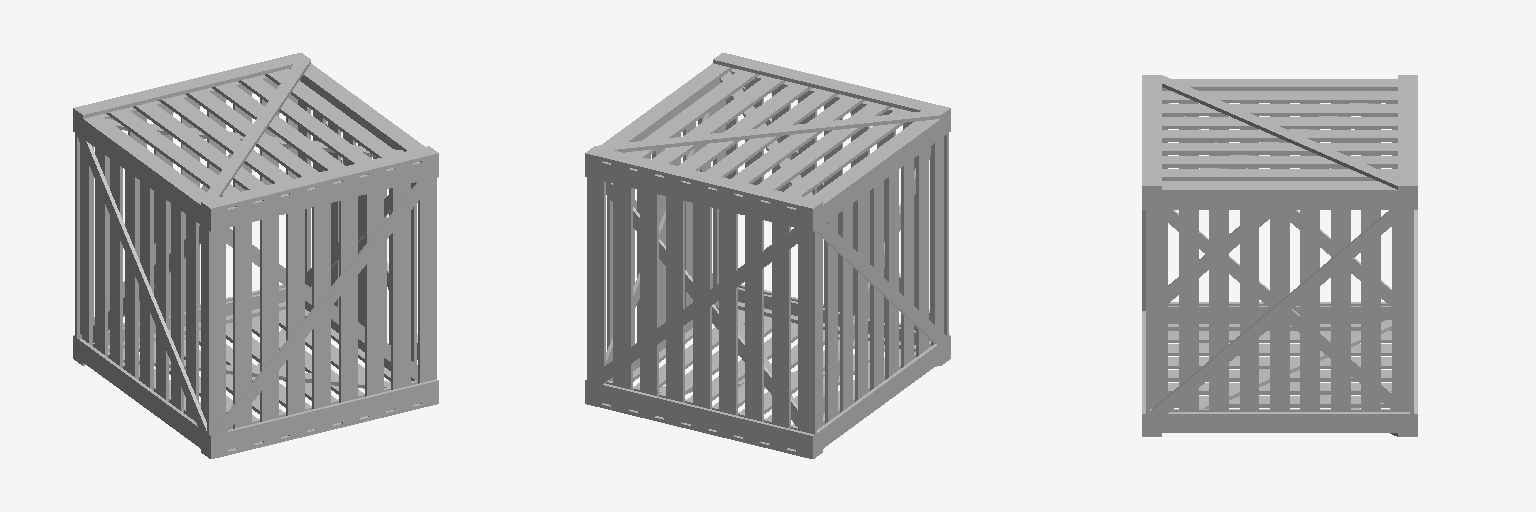
File: Crate1.obj
3 views of the same model, side by side, from view 1: azimuth 30°, elevation 25°; view 2: azimuth 150°, elevation 25°; view 3: azimuth 270°, elevation 25° (orthographic).
Size of the model in its own units: 0.8656 by 0.9092 by 0.9052.